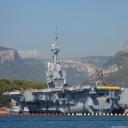Portanaves: (3, 25, 122, 114)
